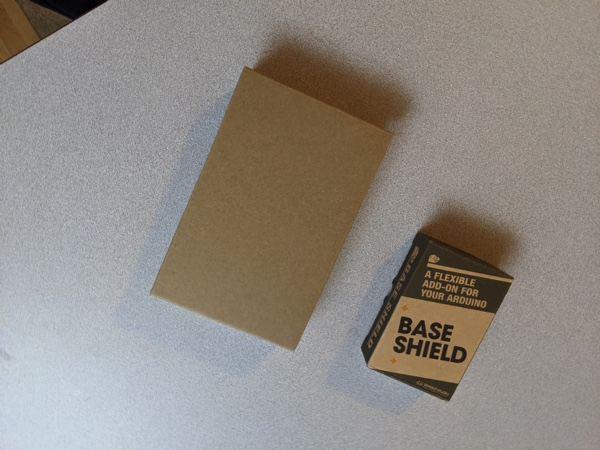cardboard: (119, 39, 400, 351), (357, 226, 521, 406)
